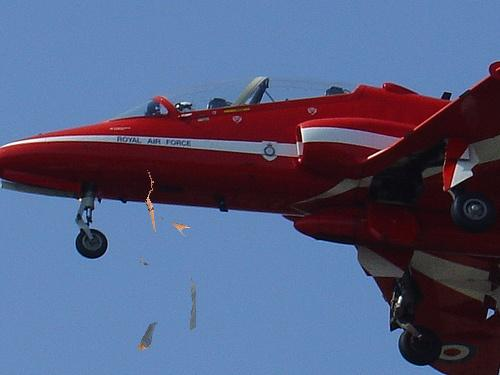tampered: (139, 171, 196, 350)
